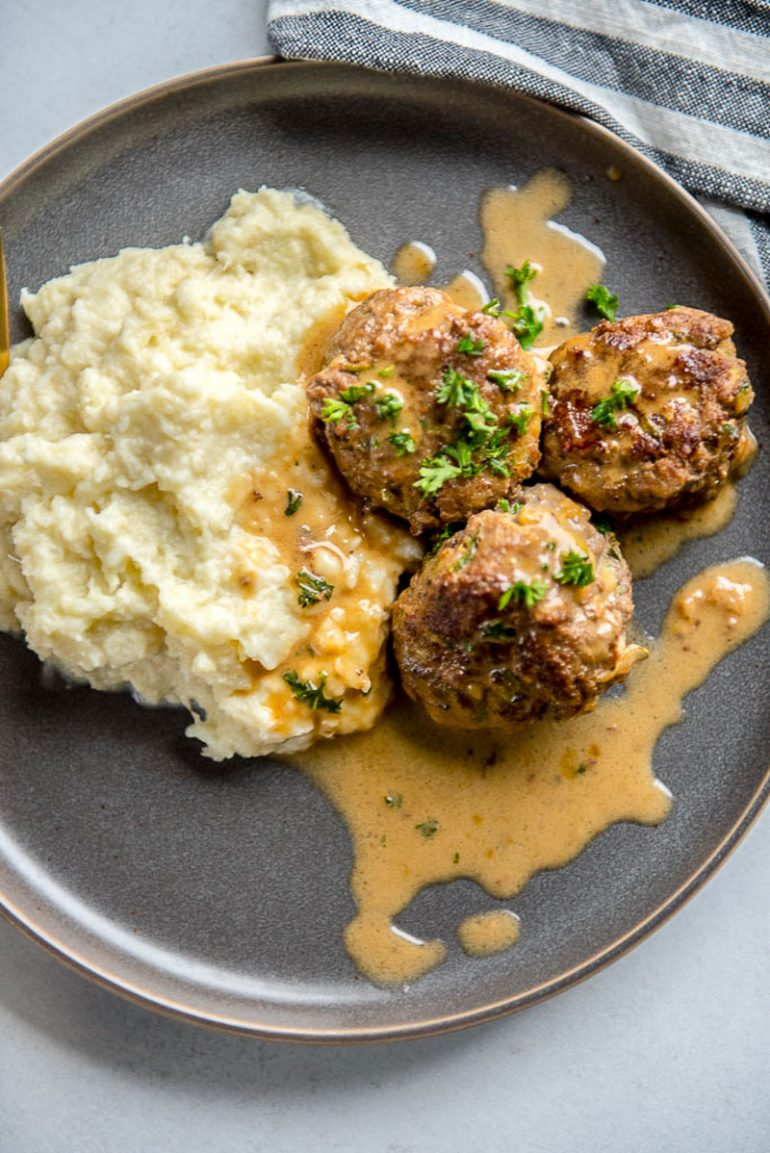boiled potatoes: (53, 285, 315, 733)
meatballs: (390, 501, 633, 703), (325, 307, 551, 489), (565, 327, 749, 491)
